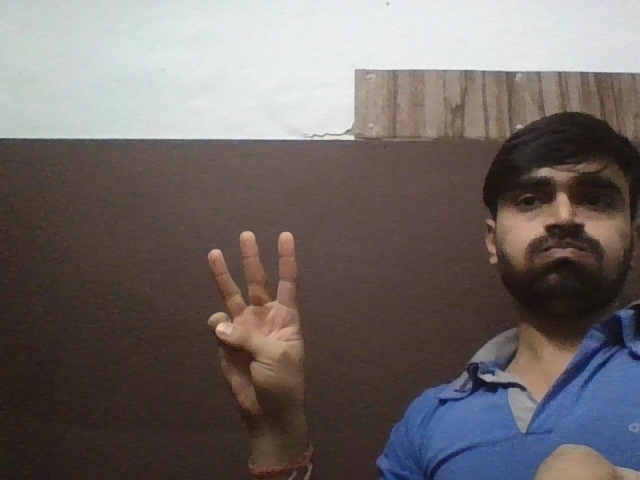W: (193, 215, 332, 413)
